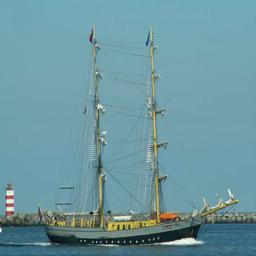Ship: (38, 28, 241, 252)
